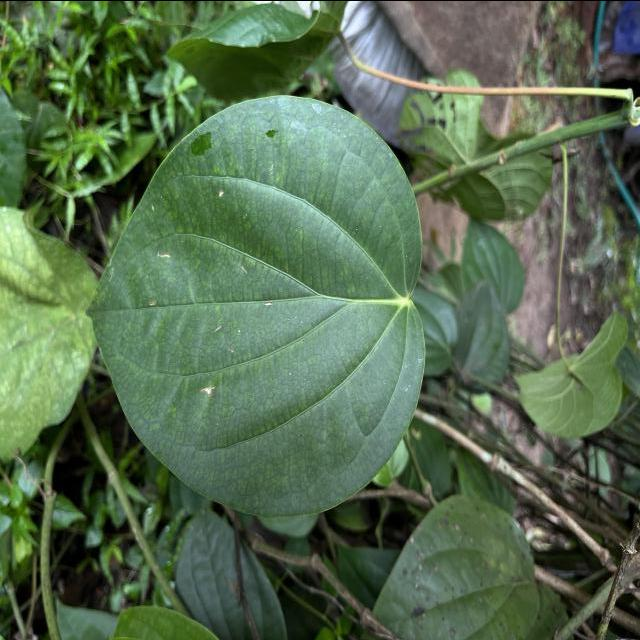Piper nigrum: (81, 92, 428, 520)
